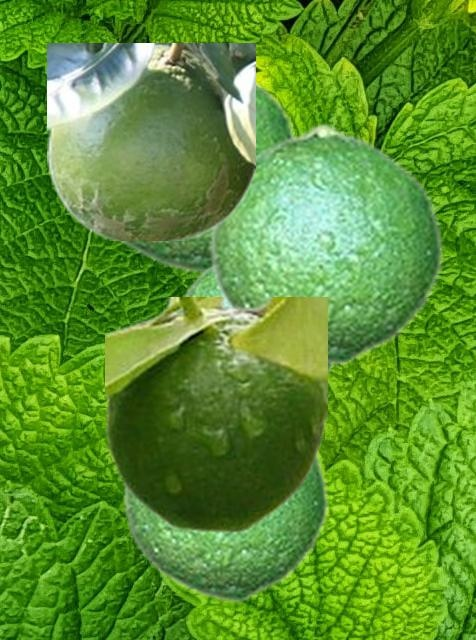dalandan: (207, 122, 443, 365), (105, 297, 326, 532), (47, 43, 254, 239), (112, 76, 299, 273), (121, 453, 328, 602), (178, 263, 336, 382)
